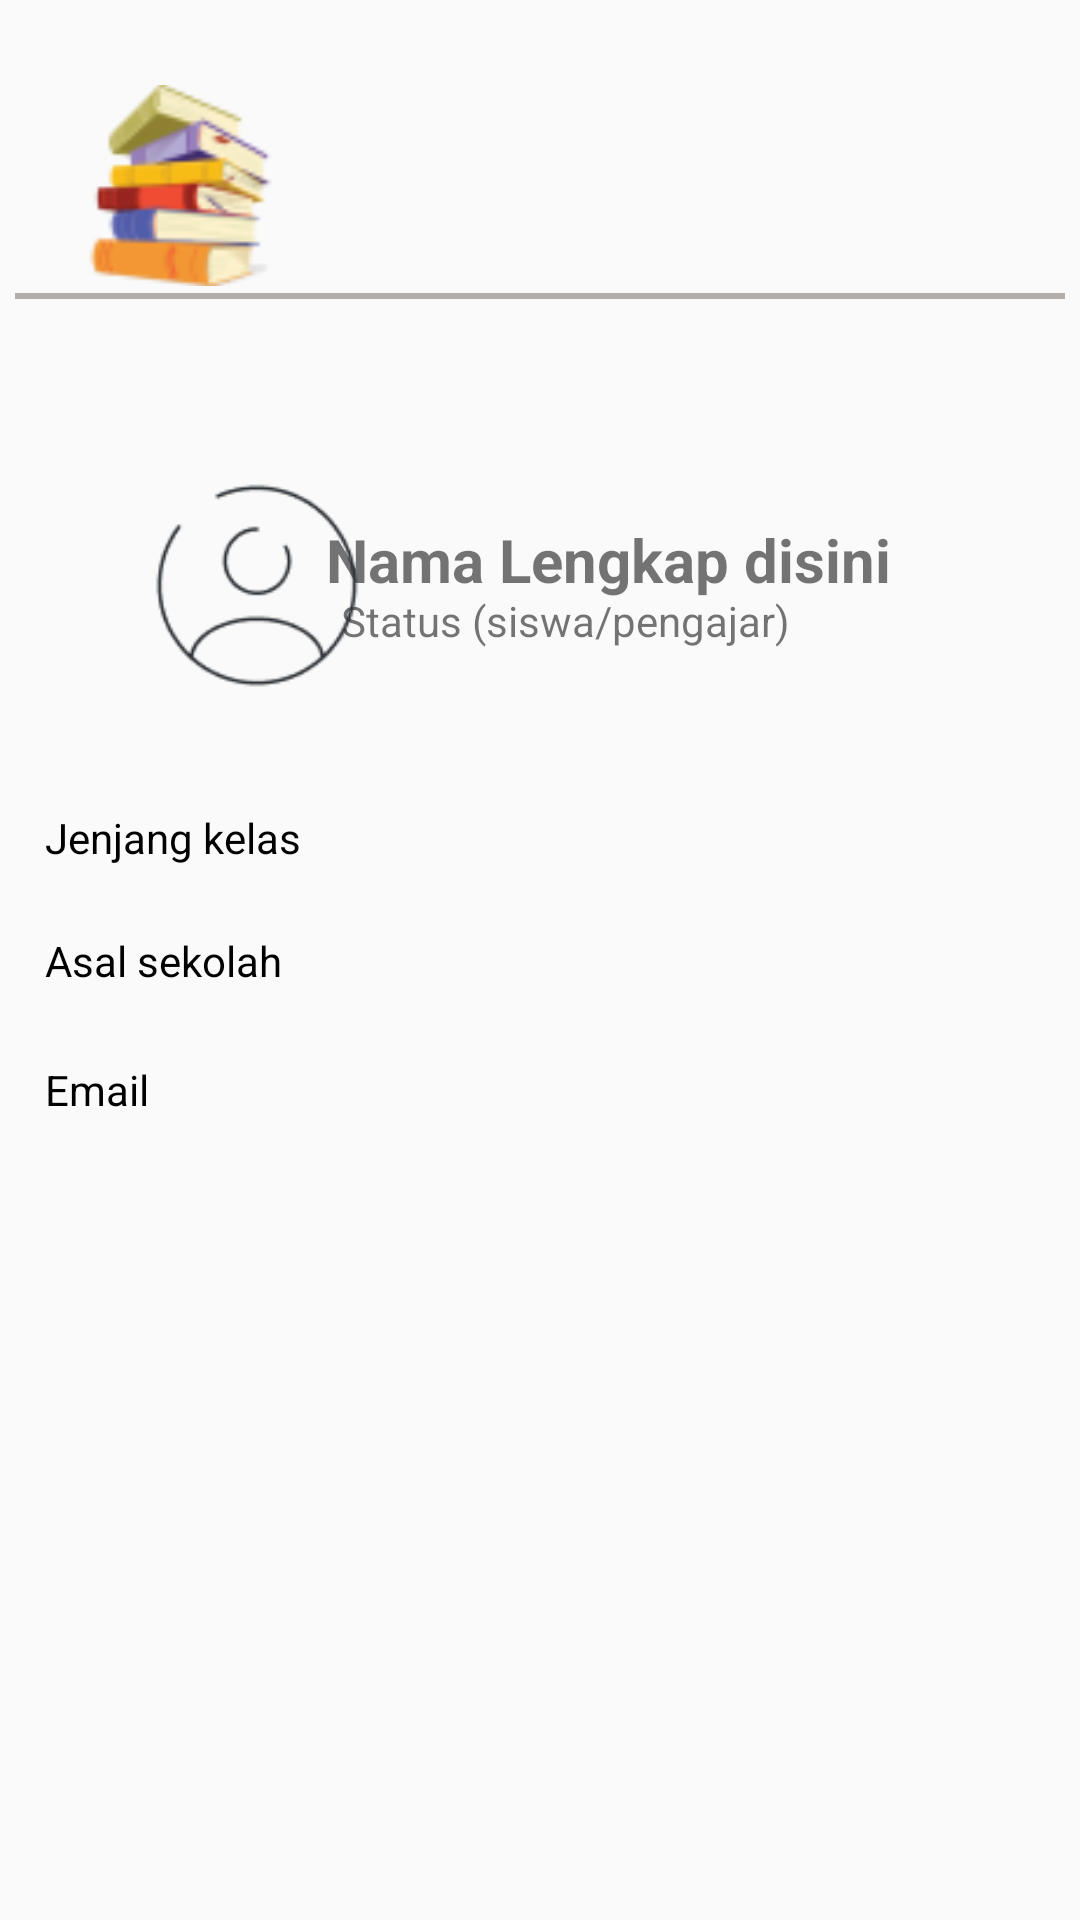

Icons on this 1080*1920 Android screen, each with its box as (x1, y1, x2, y2):
buku: (90, 85, 270, 286)
profile circle: (156, 484, 374, 687)
